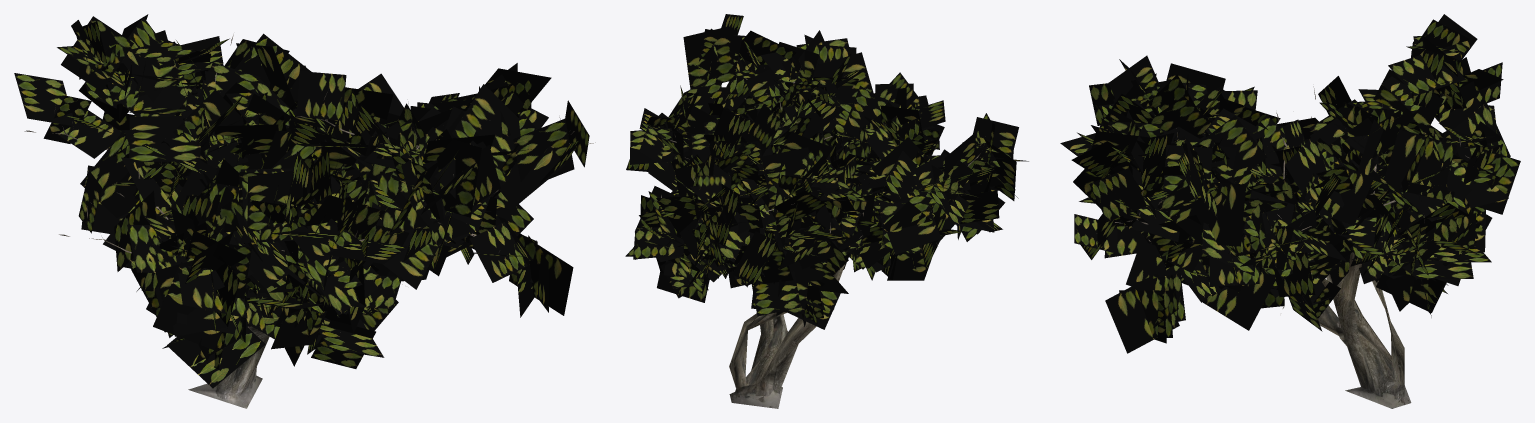
Rendered from tree_island_wide.glb.
3 renders of one model, left to right at view 1: azimuth 30°, elevation 25°; view 2: azimuth 150°, elevation 25°; view 3: azimuth 270°, elevation 25°, orthographic. The views are drawn at different scales.
Size of the model in its own units: 4.37 by 3.58 by 4.54.
Materials: 3 (3 with a texture image).
